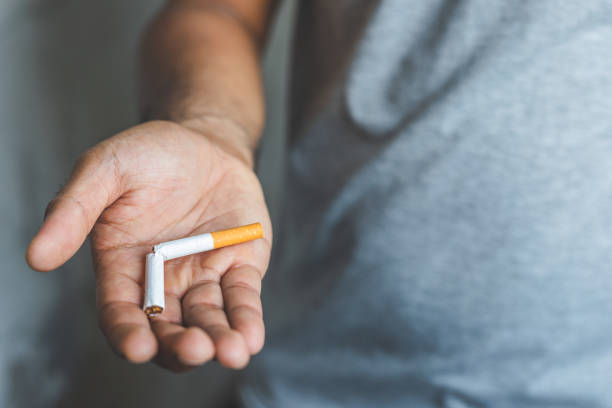cigarette: (151, 221, 265, 263), (143, 251, 168, 316)
